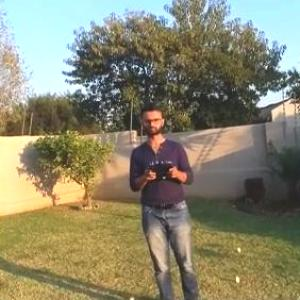follow: (124, 99, 202, 299)
